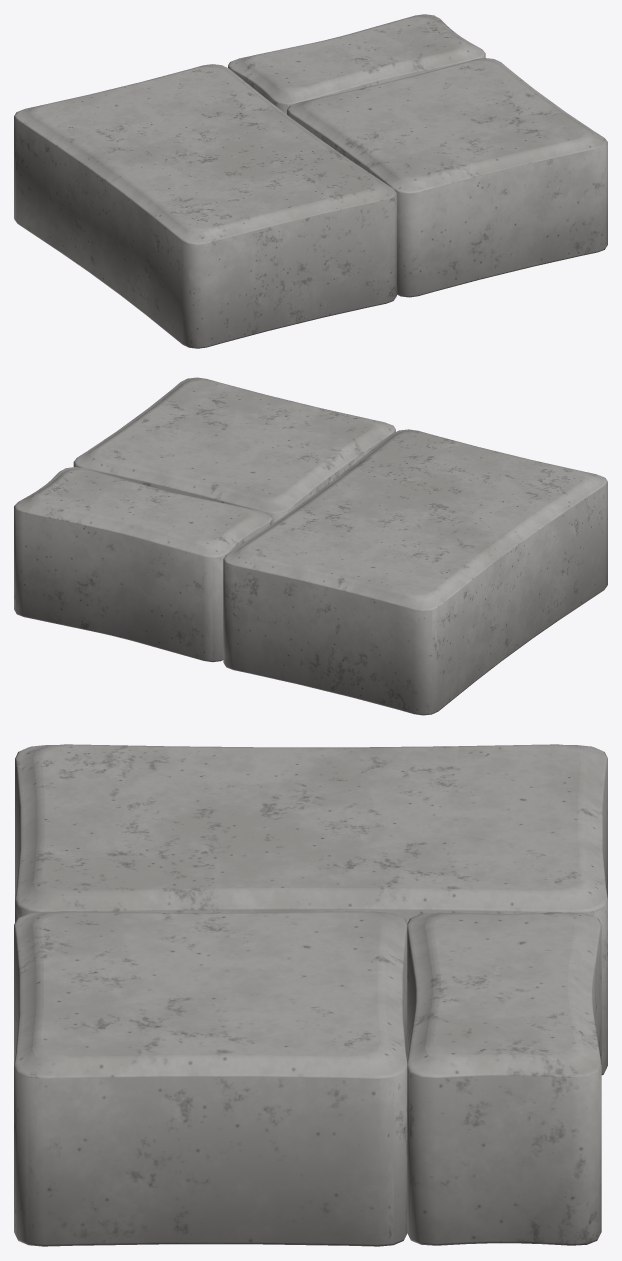
Rendered from owc-grey.gltf.
3 renders of one model, top to bottom at view 1: azimuth 30°, elevation 25°; view 2: azimuth 150°, elevation 25°; view 3: azimuth 270°, elevation 25°, orthographic. The views are drawn at different scales.
Visible parts, largest first — view 1: Old World Cobble Regular.001, Old World Cobble Square.001, Old World Cobble Half.001; view 2: Old World Cobble Regular.001, Old World Cobble Half.001, Old World Cobble Square.001; view 3: Old World Cobble Square.001, Old World Cobble Regular.001, Old World Cobble Half.001.
Part boxes in pixels (box(x1,y1,x2,y2)): Old World Cobble Regular.001: box(14, 64, 396, 348); Old World Cobble Square.001: box(287, 58, 607, 297); Old World Cobble Half.001: box(228, 14, 485, 114); Old World Cobble Regular.001: box(223, 429, 607, 715); Old World Cobble Half.001: box(14, 467, 273, 662); Old World Cobble Square.001: box(73, 377, 395, 523); Old World Cobble Square.001: box(14, 911, 407, 1246); Old World Cobble Regular.001: box(15, 744, 607, 1075); Old World Cobble Half.001: box(407, 912, 601, 1245).
Bounding box in the file's own units: 0.239 × 0.0603 × 0.1801.
1 material, 1 textured.
